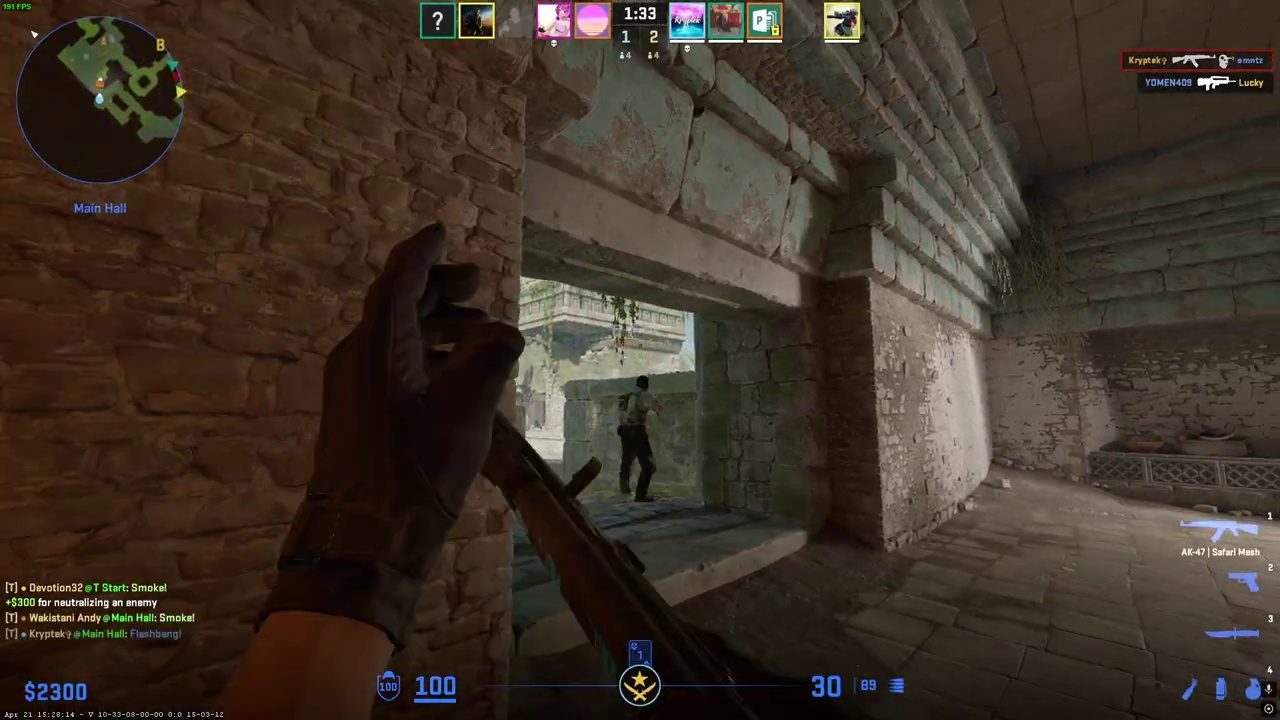Terrorist: (617, 375, 662, 503)
